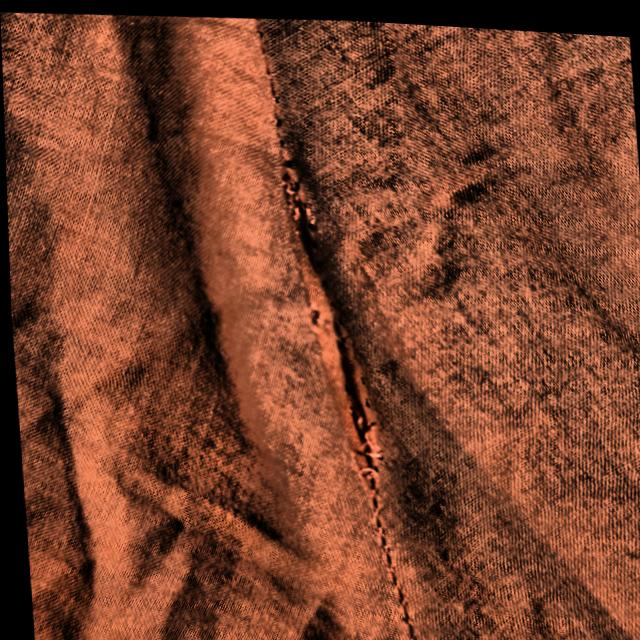seam: (230, 132, 432, 518)
